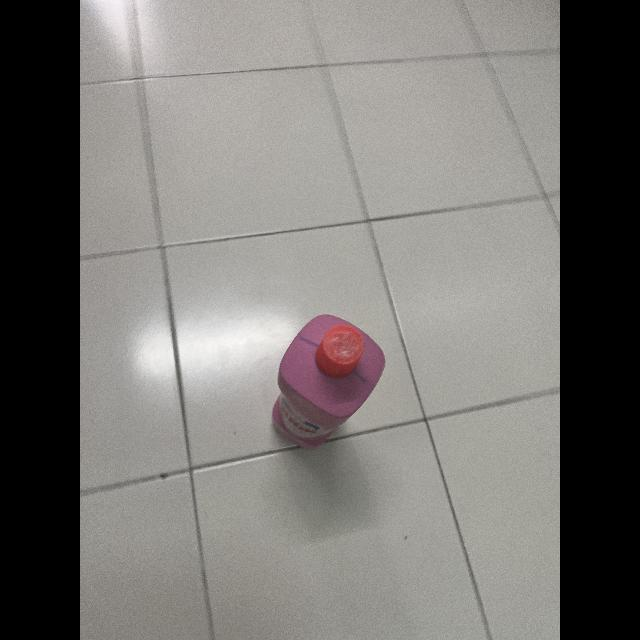chemical_plastic_bottle: (268, 308, 390, 456)
